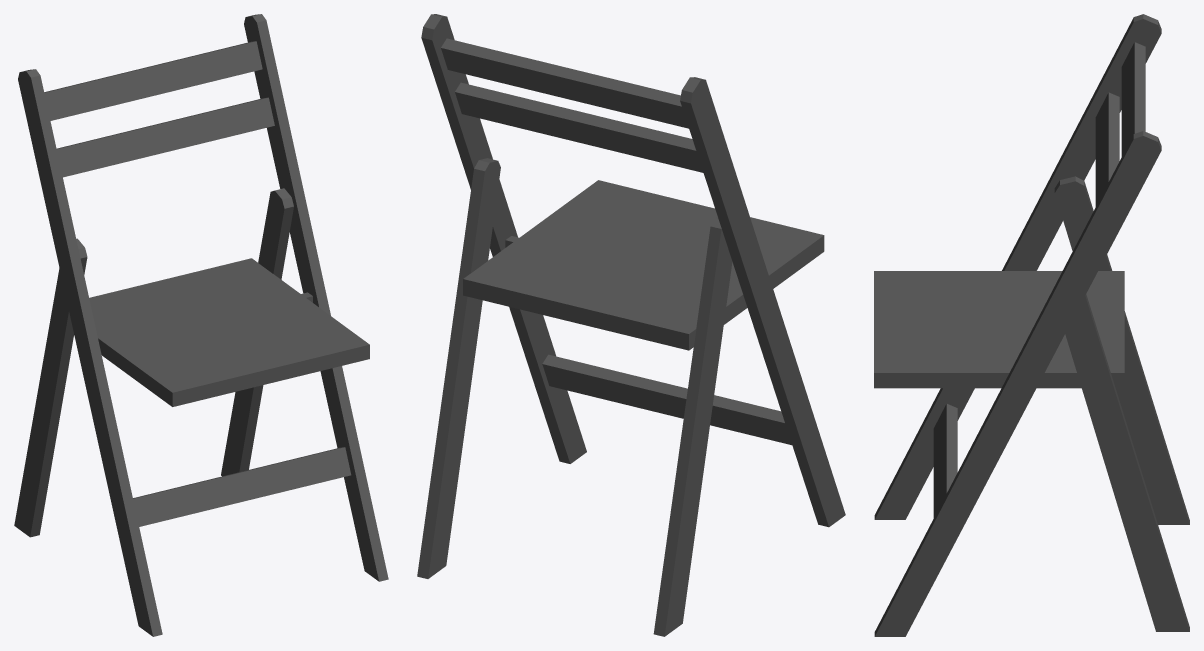
The model's file is Chair_03.fbx.
The picture shows the model from 3 angles, left to right: view 1: azimuth 30°, elevation 25°; view 2: azimuth 150°, elevation 25°; view 3: azimuth 270°, elevation 25°; orthographic projection. The views are drawn at different scales.
Parts seen in each view (by area): view 1: Chair_03; view 2: Chair_03; view 3: Chair_03.
Part boxes in pixels (box(x1,y1,x2,y2)): Chair_03: box(14, 14, 388, 636); Chair_03: box(417, 14, 845, 636); Chair_03: box(874, 14, 1189, 636).
Size of the model in its own units: 51.99 by 99.71 by 56.93.
